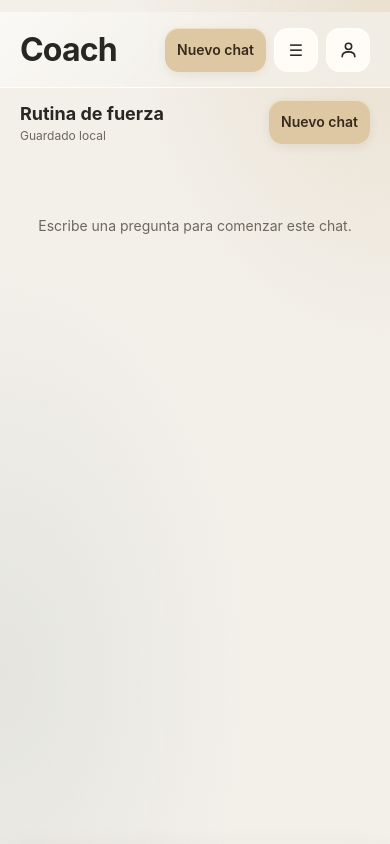
Scenario: CoachPage T6 › abre el historial móvil con el componente de conversaciones real
Click the button named "Abrir historial": (296, 50) [274,28,318,72]
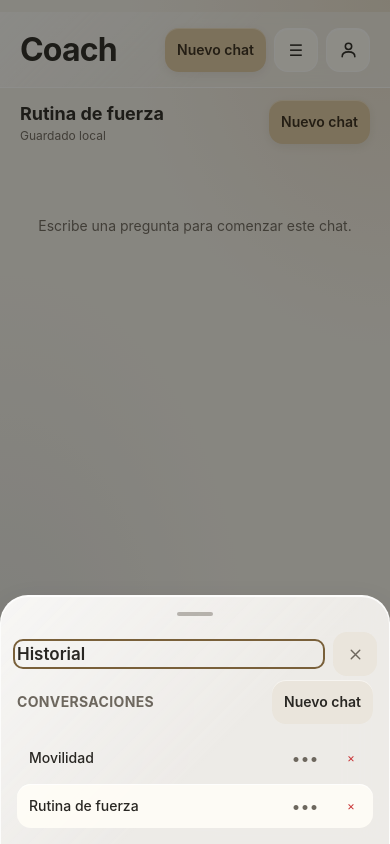
Expected: the heading "Historial" is shown, [17,644,85,664]
